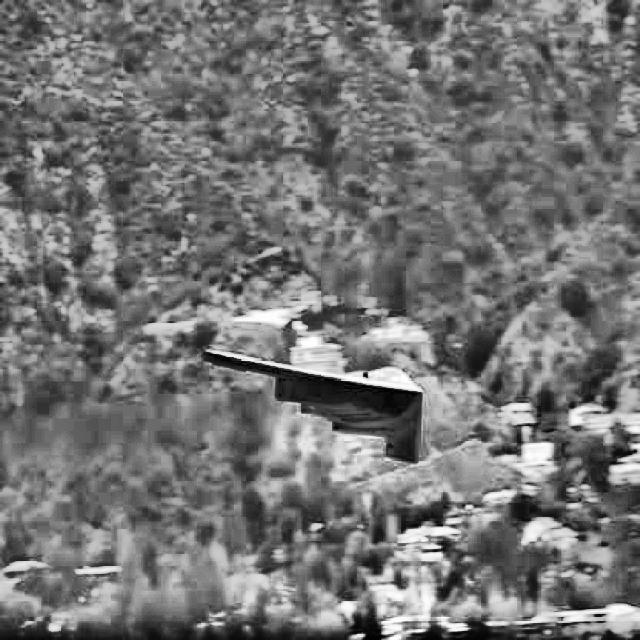B2: (202, 349, 423, 465)
